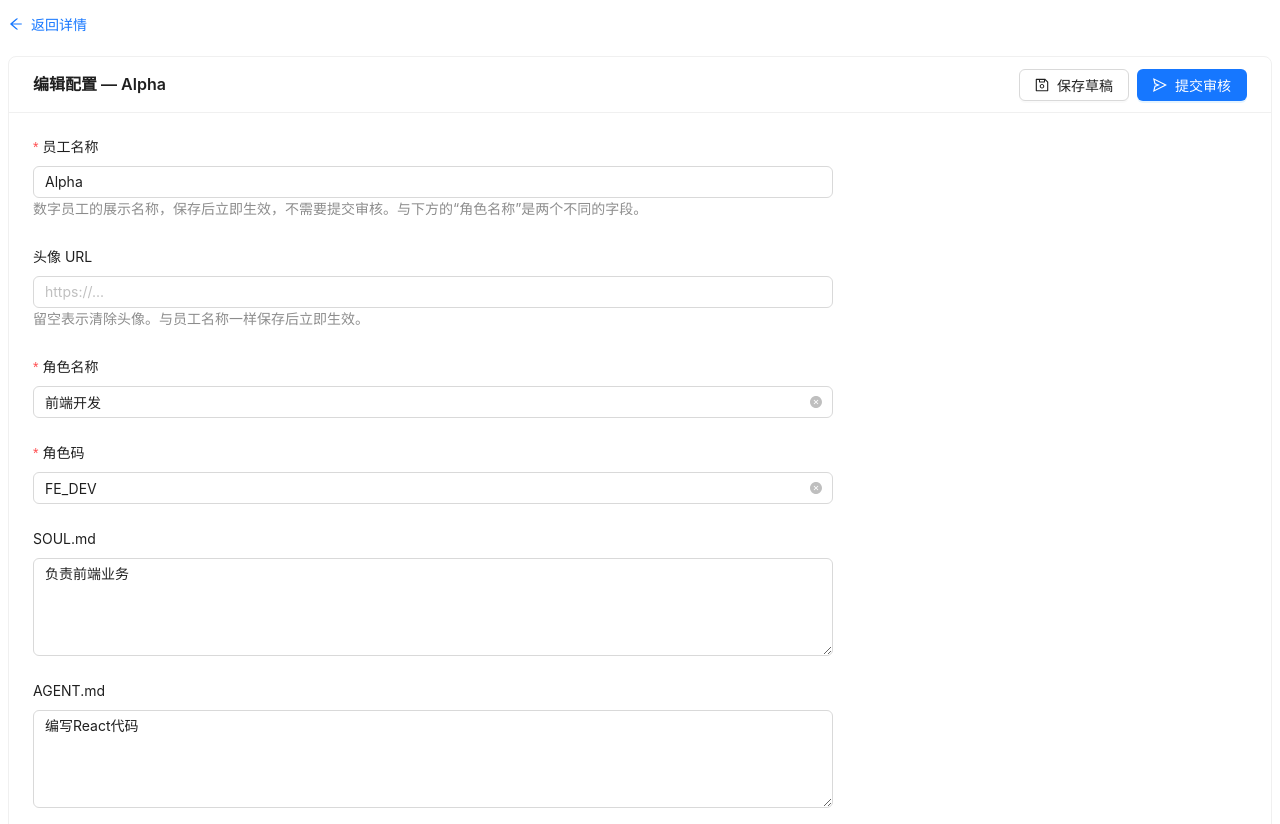
Test: AgentEditPage › patches only the agent row when the display name changes
This screenshot has width=1280, height=824.
Check: the text "编辑配置 — Alpha" is shown, box [33,74,166,94]
Replace the text in the field labelled "员工名称" with "Beta" at x=433, y=182, box [33,166,833,198]
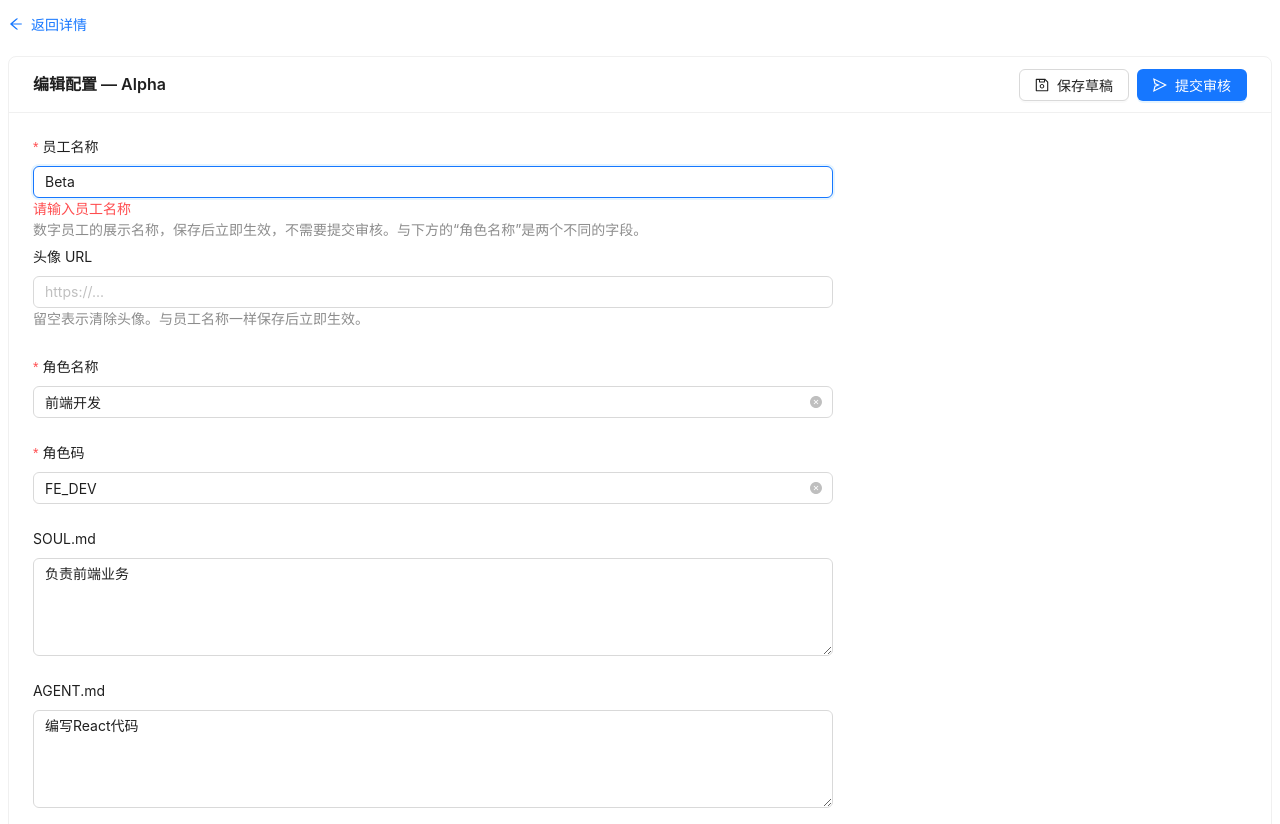
Click the button "保存草稿" at x=1074, y=84, box [1019,68,1129,100]
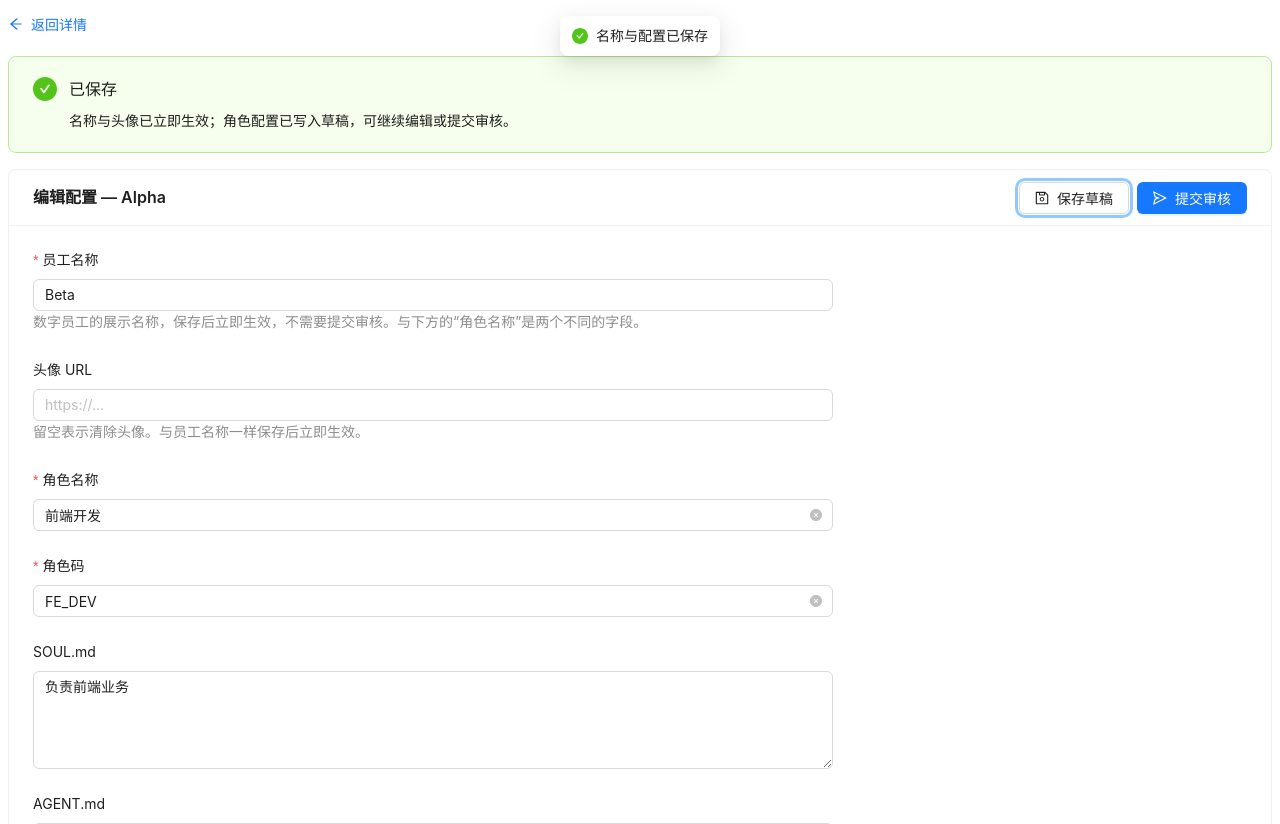
Check: the text "名称与头像已立即生效；角色配置已写入草稿，可继续编辑或提交审核。" is shown, box [69,112,517,129]
